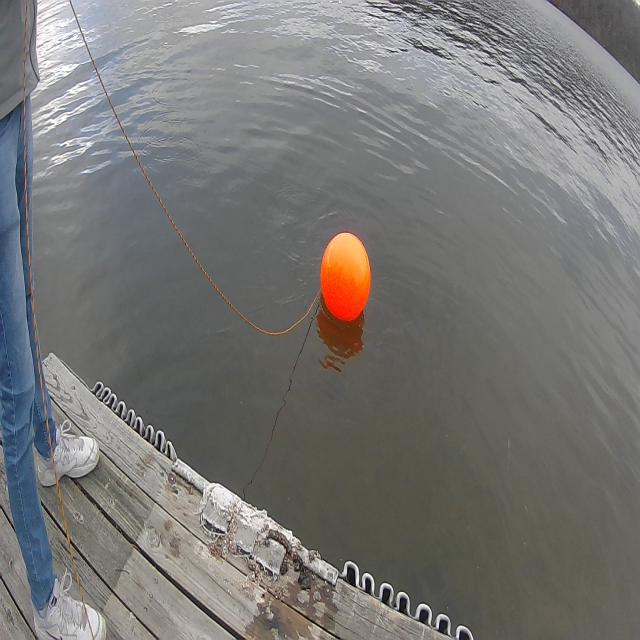Buoy: (317, 222, 376, 334)
